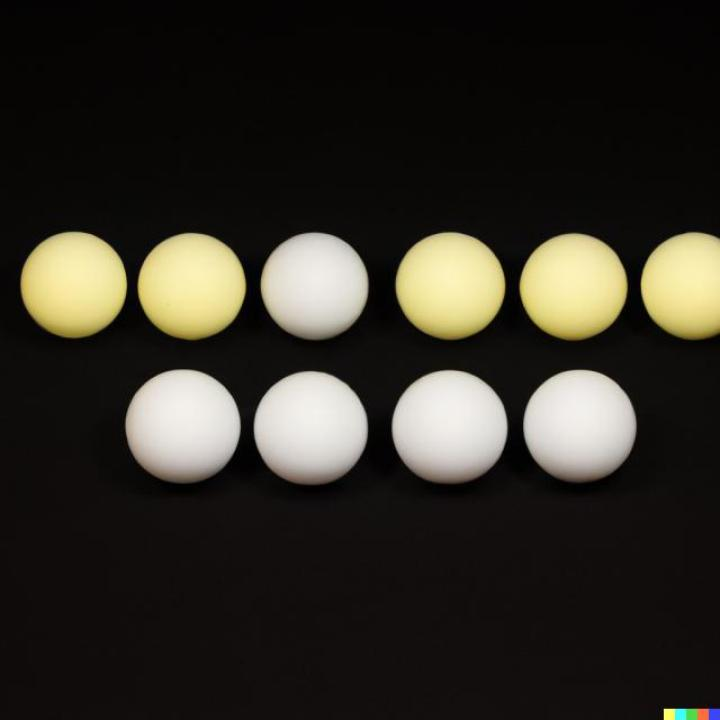white: (124, 367, 241, 483), (391, 369, 509, 484), (254, 371, 367, 484), (524, 371, 637, 484), (259, 230, 371, 338), (396, 232, 506, 340), (518, 232, 627, 340), (139, 233, 246, 341), (22, 233, 129, 340), (642, 230, 719, 338)
